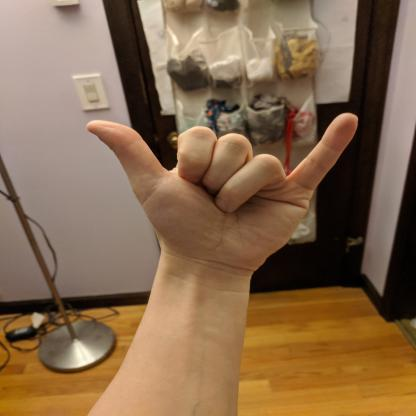Y: (81, 109, 363, 268)
